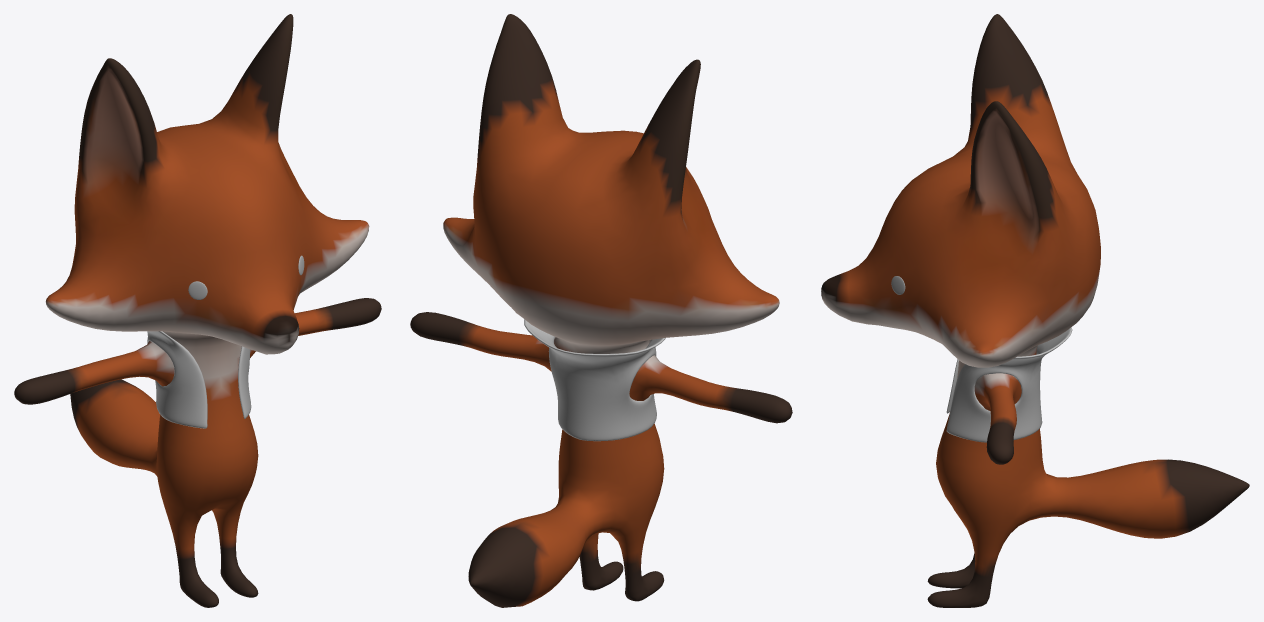
The model's file is Patatino Uv.fbx.
The picture shows the model from 3 angles, left to right: view 1: azimuth 30°, elevation 25°; view 2: azimuth 150°, elevation 25°; view 3: azimuth 270°, elevation 25°; orthographic projection. The views are drawn at different scales.
Parts seen in each view (by area): view 1: PolyFoxColor_1, Extract3_1; view 2: PolyFoxColor_1, Extract3_1; view 3: PolyFoxColor_1, Extract3_1.
Part boxes in pixels (x1=…): PolyFoxColor_1: x1=14, y1=14, x2=381, y2=607; Extract3_1: x1=147, y1=331, x2=251, y2=428; PolyFoxColor_1: x1=410, y1=14, x2=792, y2=607; Extract3_1: x1=524, y1=319, x2=665, y2=441; PolyFoxColor_1: x1=821, y1=14, x2=1249, y2=607; Extract3_1: x1=946, y1=327, x2=1072, y2=442.
Bounding box in the file's own units: 1.46 × 2.08 × 1.5.
